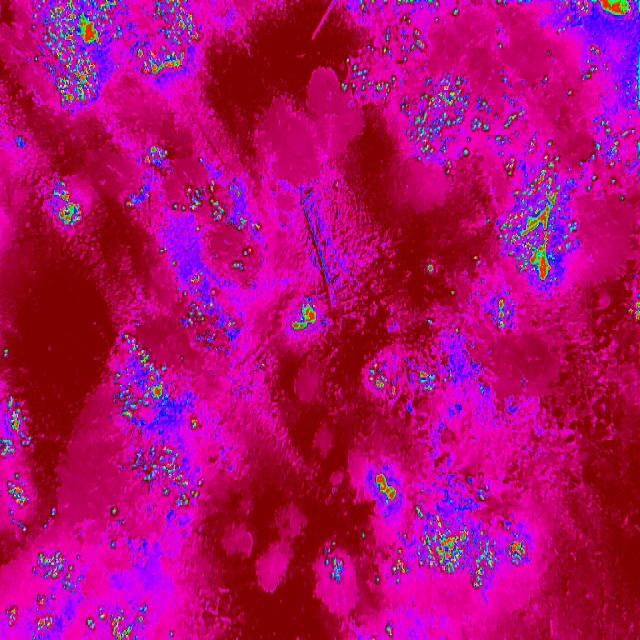fire: (496, 0, 620, 288), (330, 0, 493, 176), (356, 470, 536, 599), (102, 332, 216, 526), (0, 509, 153, 640), (28, 0, 202, 115), (114, 142, 266, 268), (0, 399, 35, 536), (366, 363, 443, 408), (44, 177, 86, 247), (281, 294, 325, 344), (558, 0, 640, 24), (484, 288, 518, 344), (320, 545, 358, 593), (381, 618, 394, 640)
